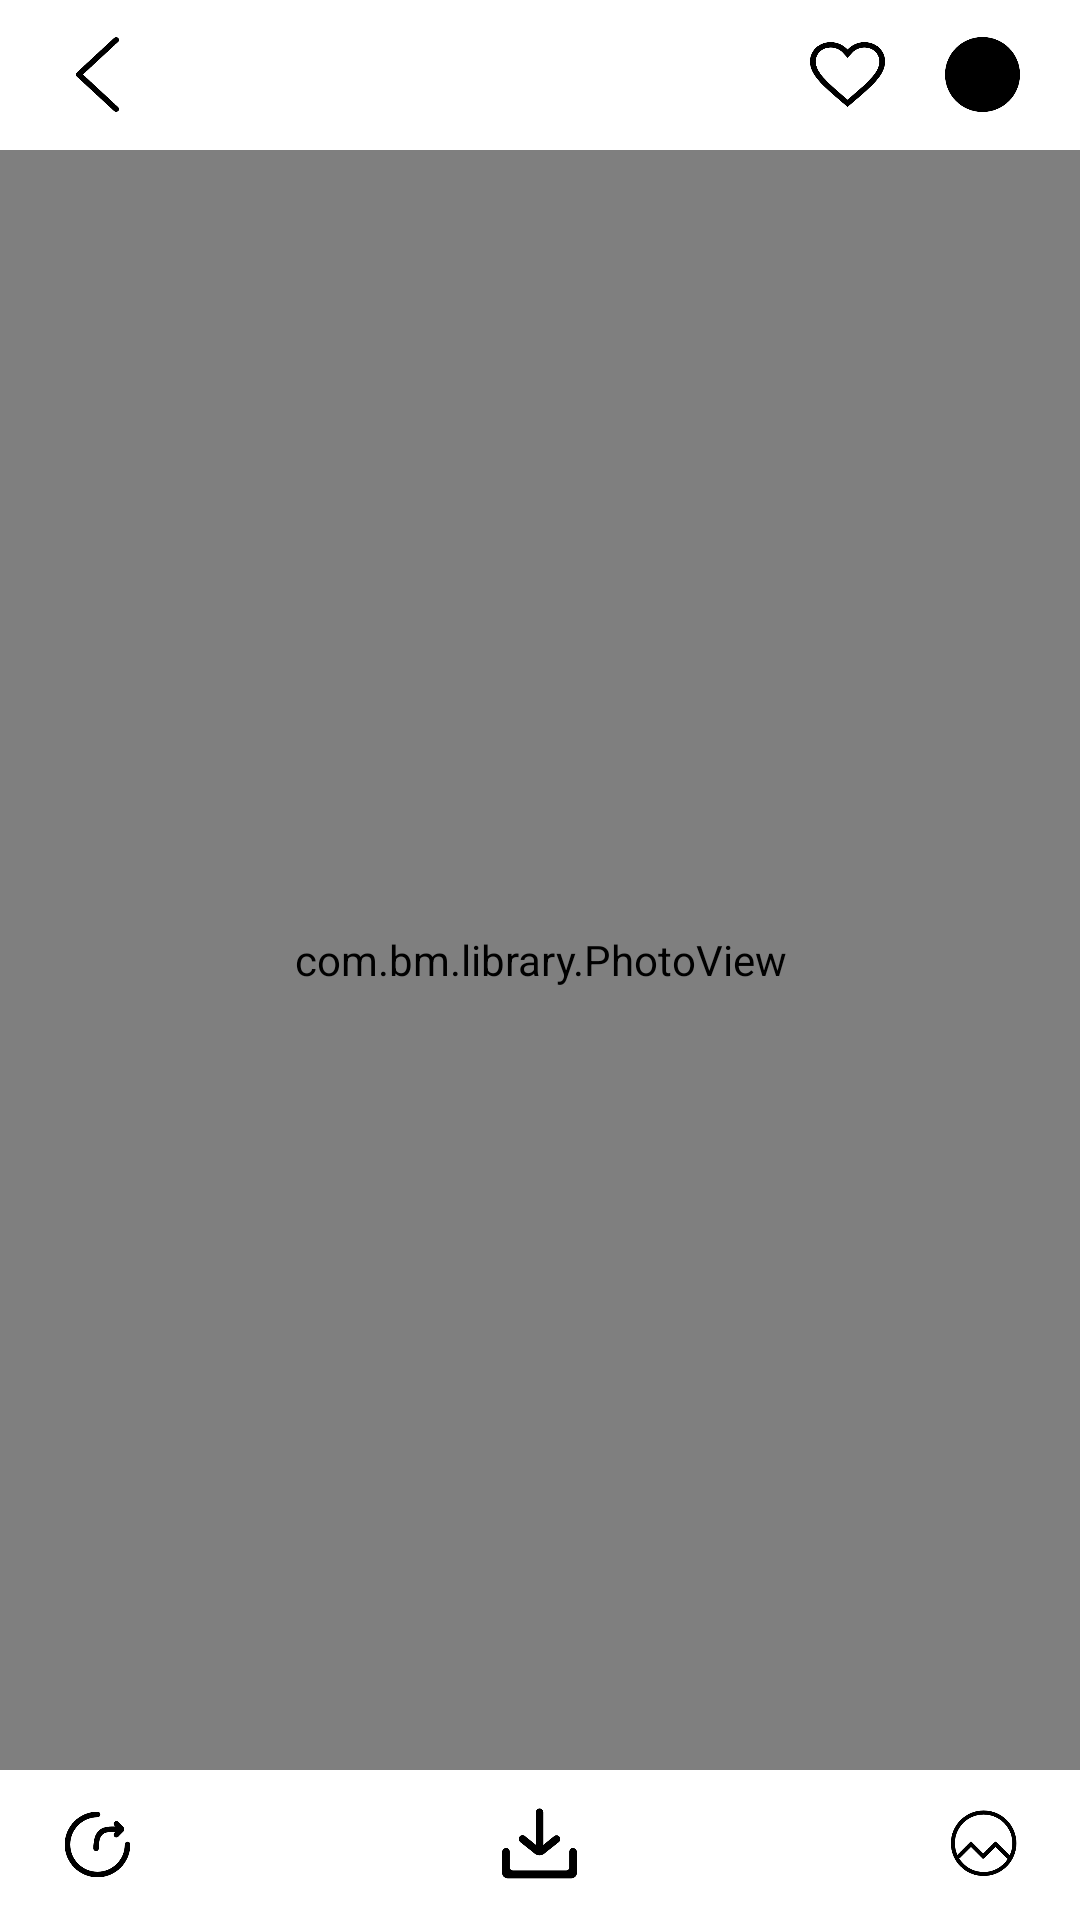

Locate icon controls on the screen. Image size 1080 x 1920, boxes as bbox(x1, y1, x2, y2).
back: bbox(76, 37, 119, 112)
download: bbox(502, 1808, 577, 1879)
like: bbox(810, 42, 885, 107)
